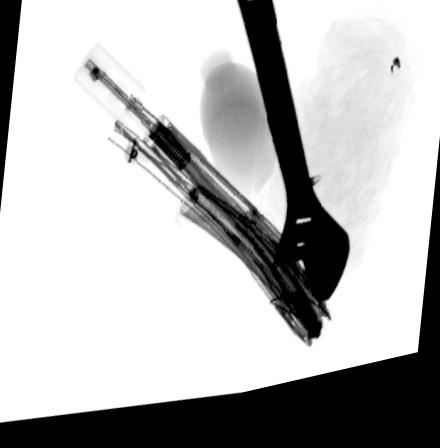Wrench: (233, 0, 351, 319)
